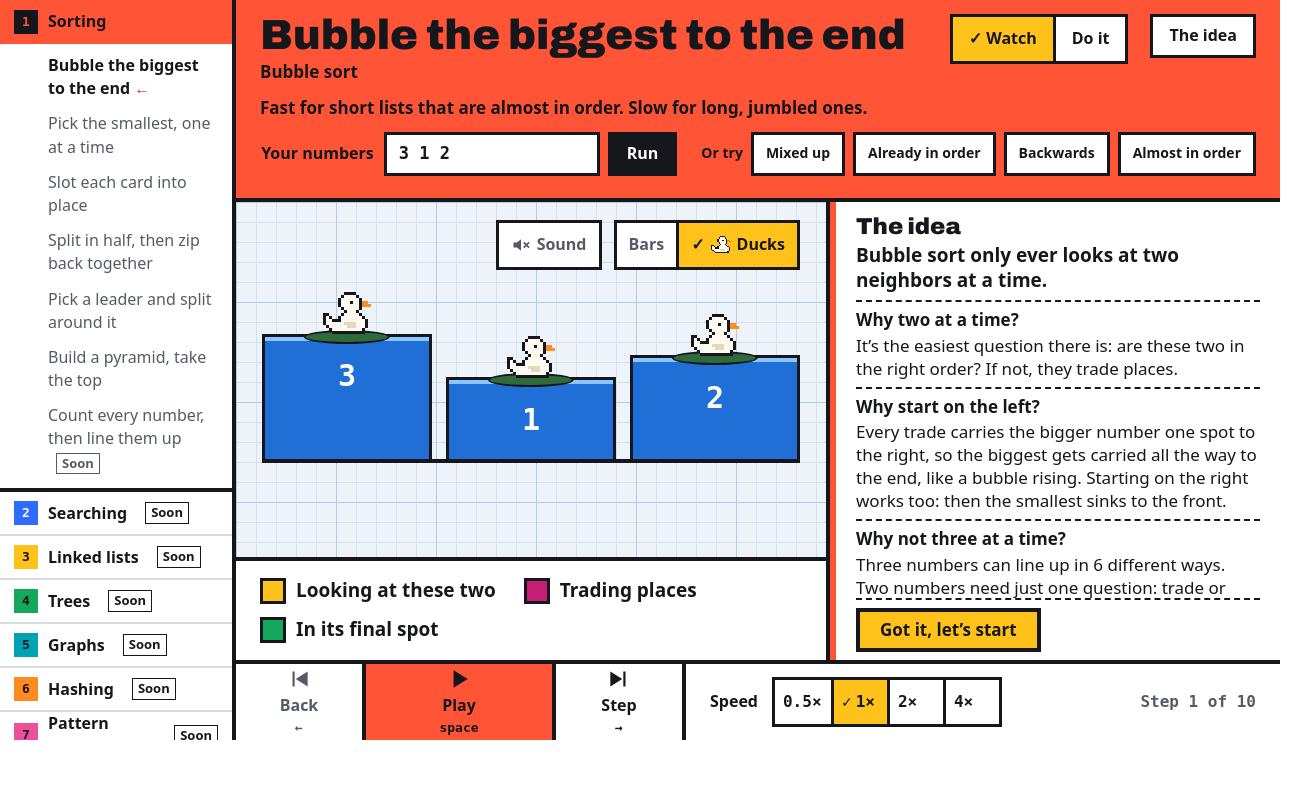
Scenario: Do it: the switch › keeps the learner’s numbers
What coordinates should you click on to do the following:
click the button "Do it"
I would click on:
 (1089, 39)
Its box is [1053,17,1125,61].
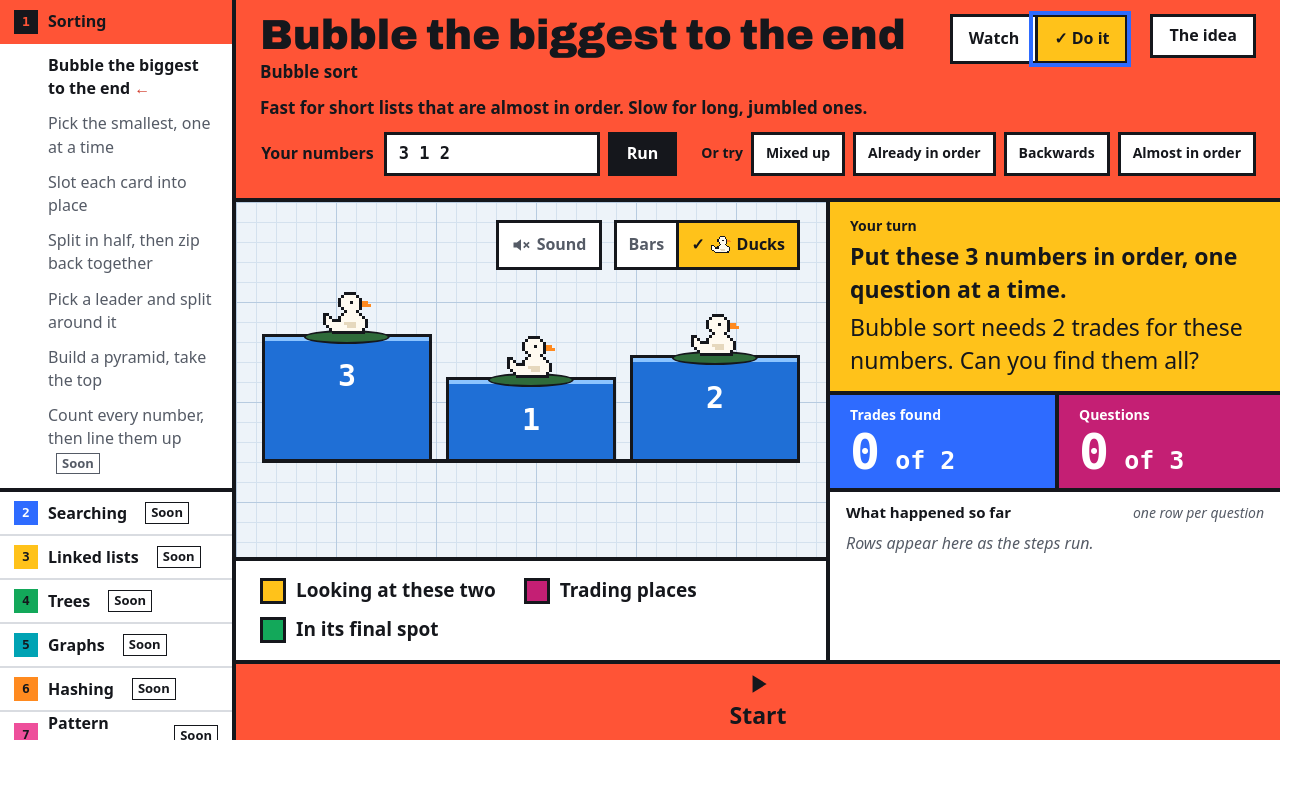
Expected: the element with class "do-it-panel" shows "Put these 3 numbers in order", [850,240,1237,305]
